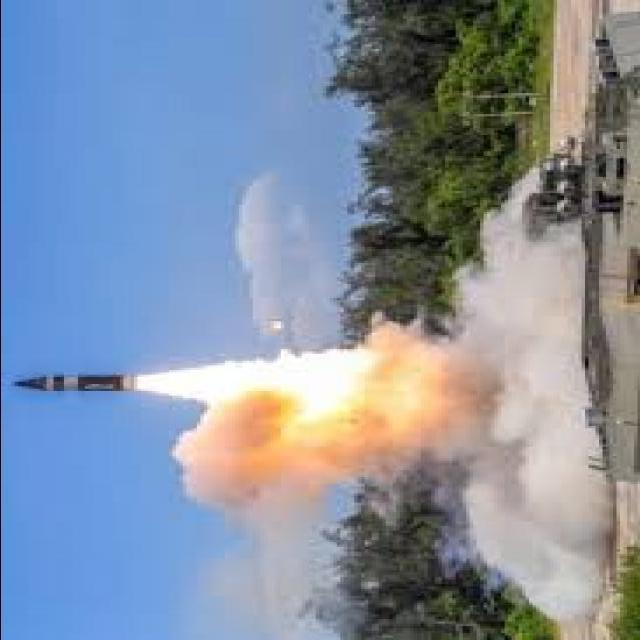Missile: (0, 366, 129, 399)
